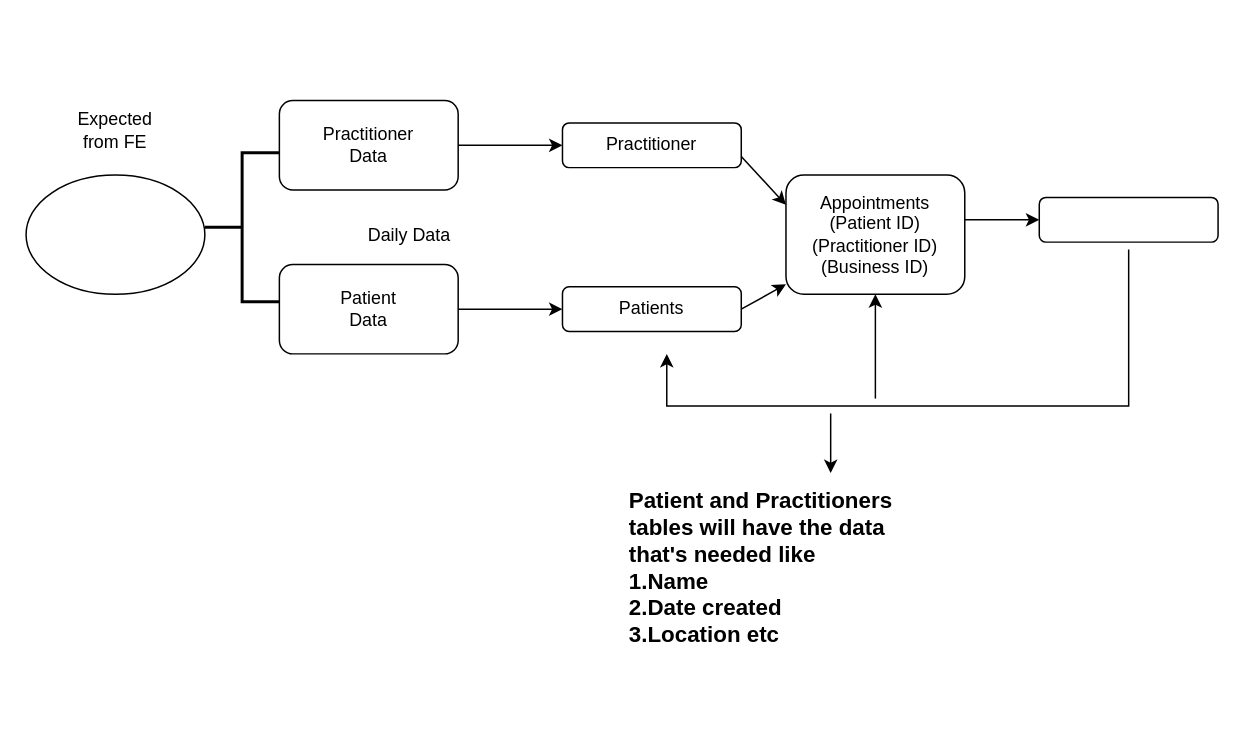
Image size: 1244x751. Some labels were removed from this diagram. Here are the shapes that lost their labels. From the top down, the box of each, then its label:
(25, 174, 205, 294): DateRange
(1038, 196, 1218, 242): Businesses
